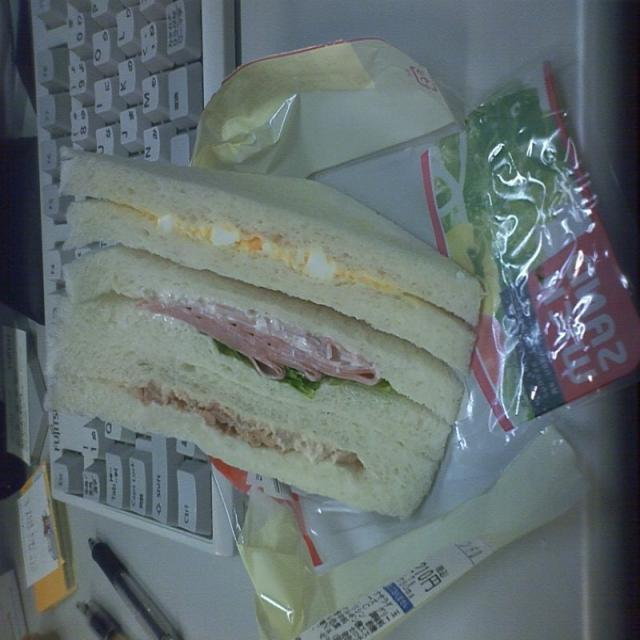三明治: (40, 134, 497, 518)
